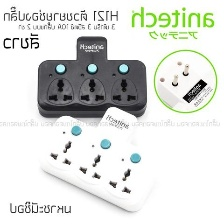three_eye_plug: (34, 103, 159, 215), (34, 34, 150, 121)
